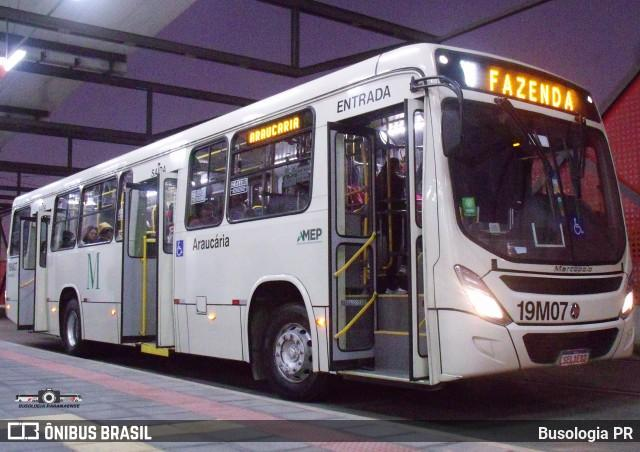FAZENDA: (481, 60, 579, 116)
